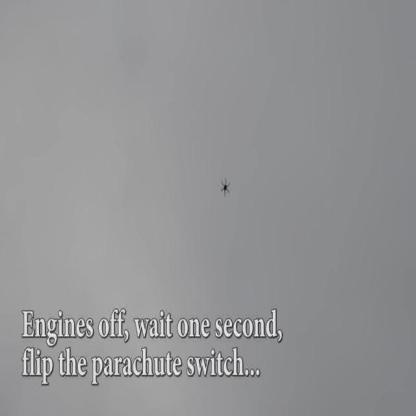drone: (218, 176, 233, 197)
